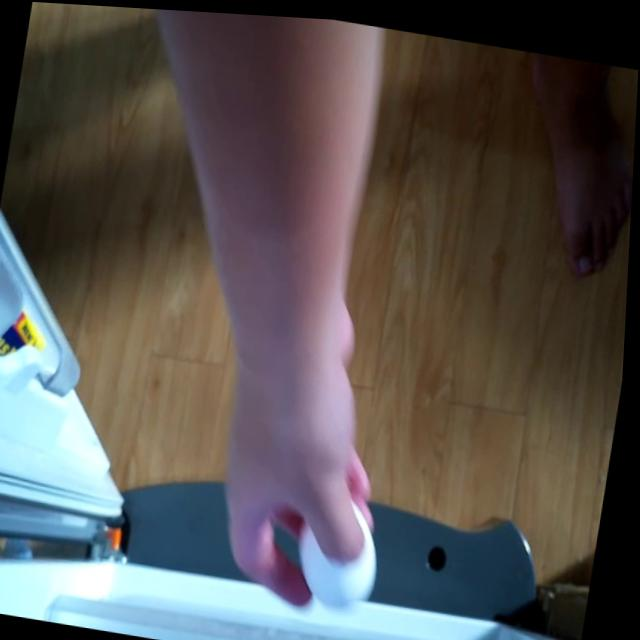egg: (297, 499, 387, 602)
